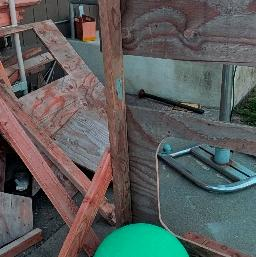algae: (85, 218, 197, 257)
